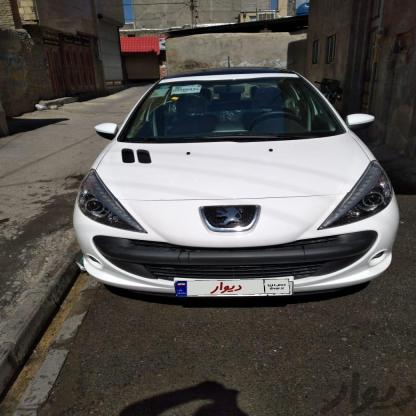Car: (64, 71, 410, 303)
